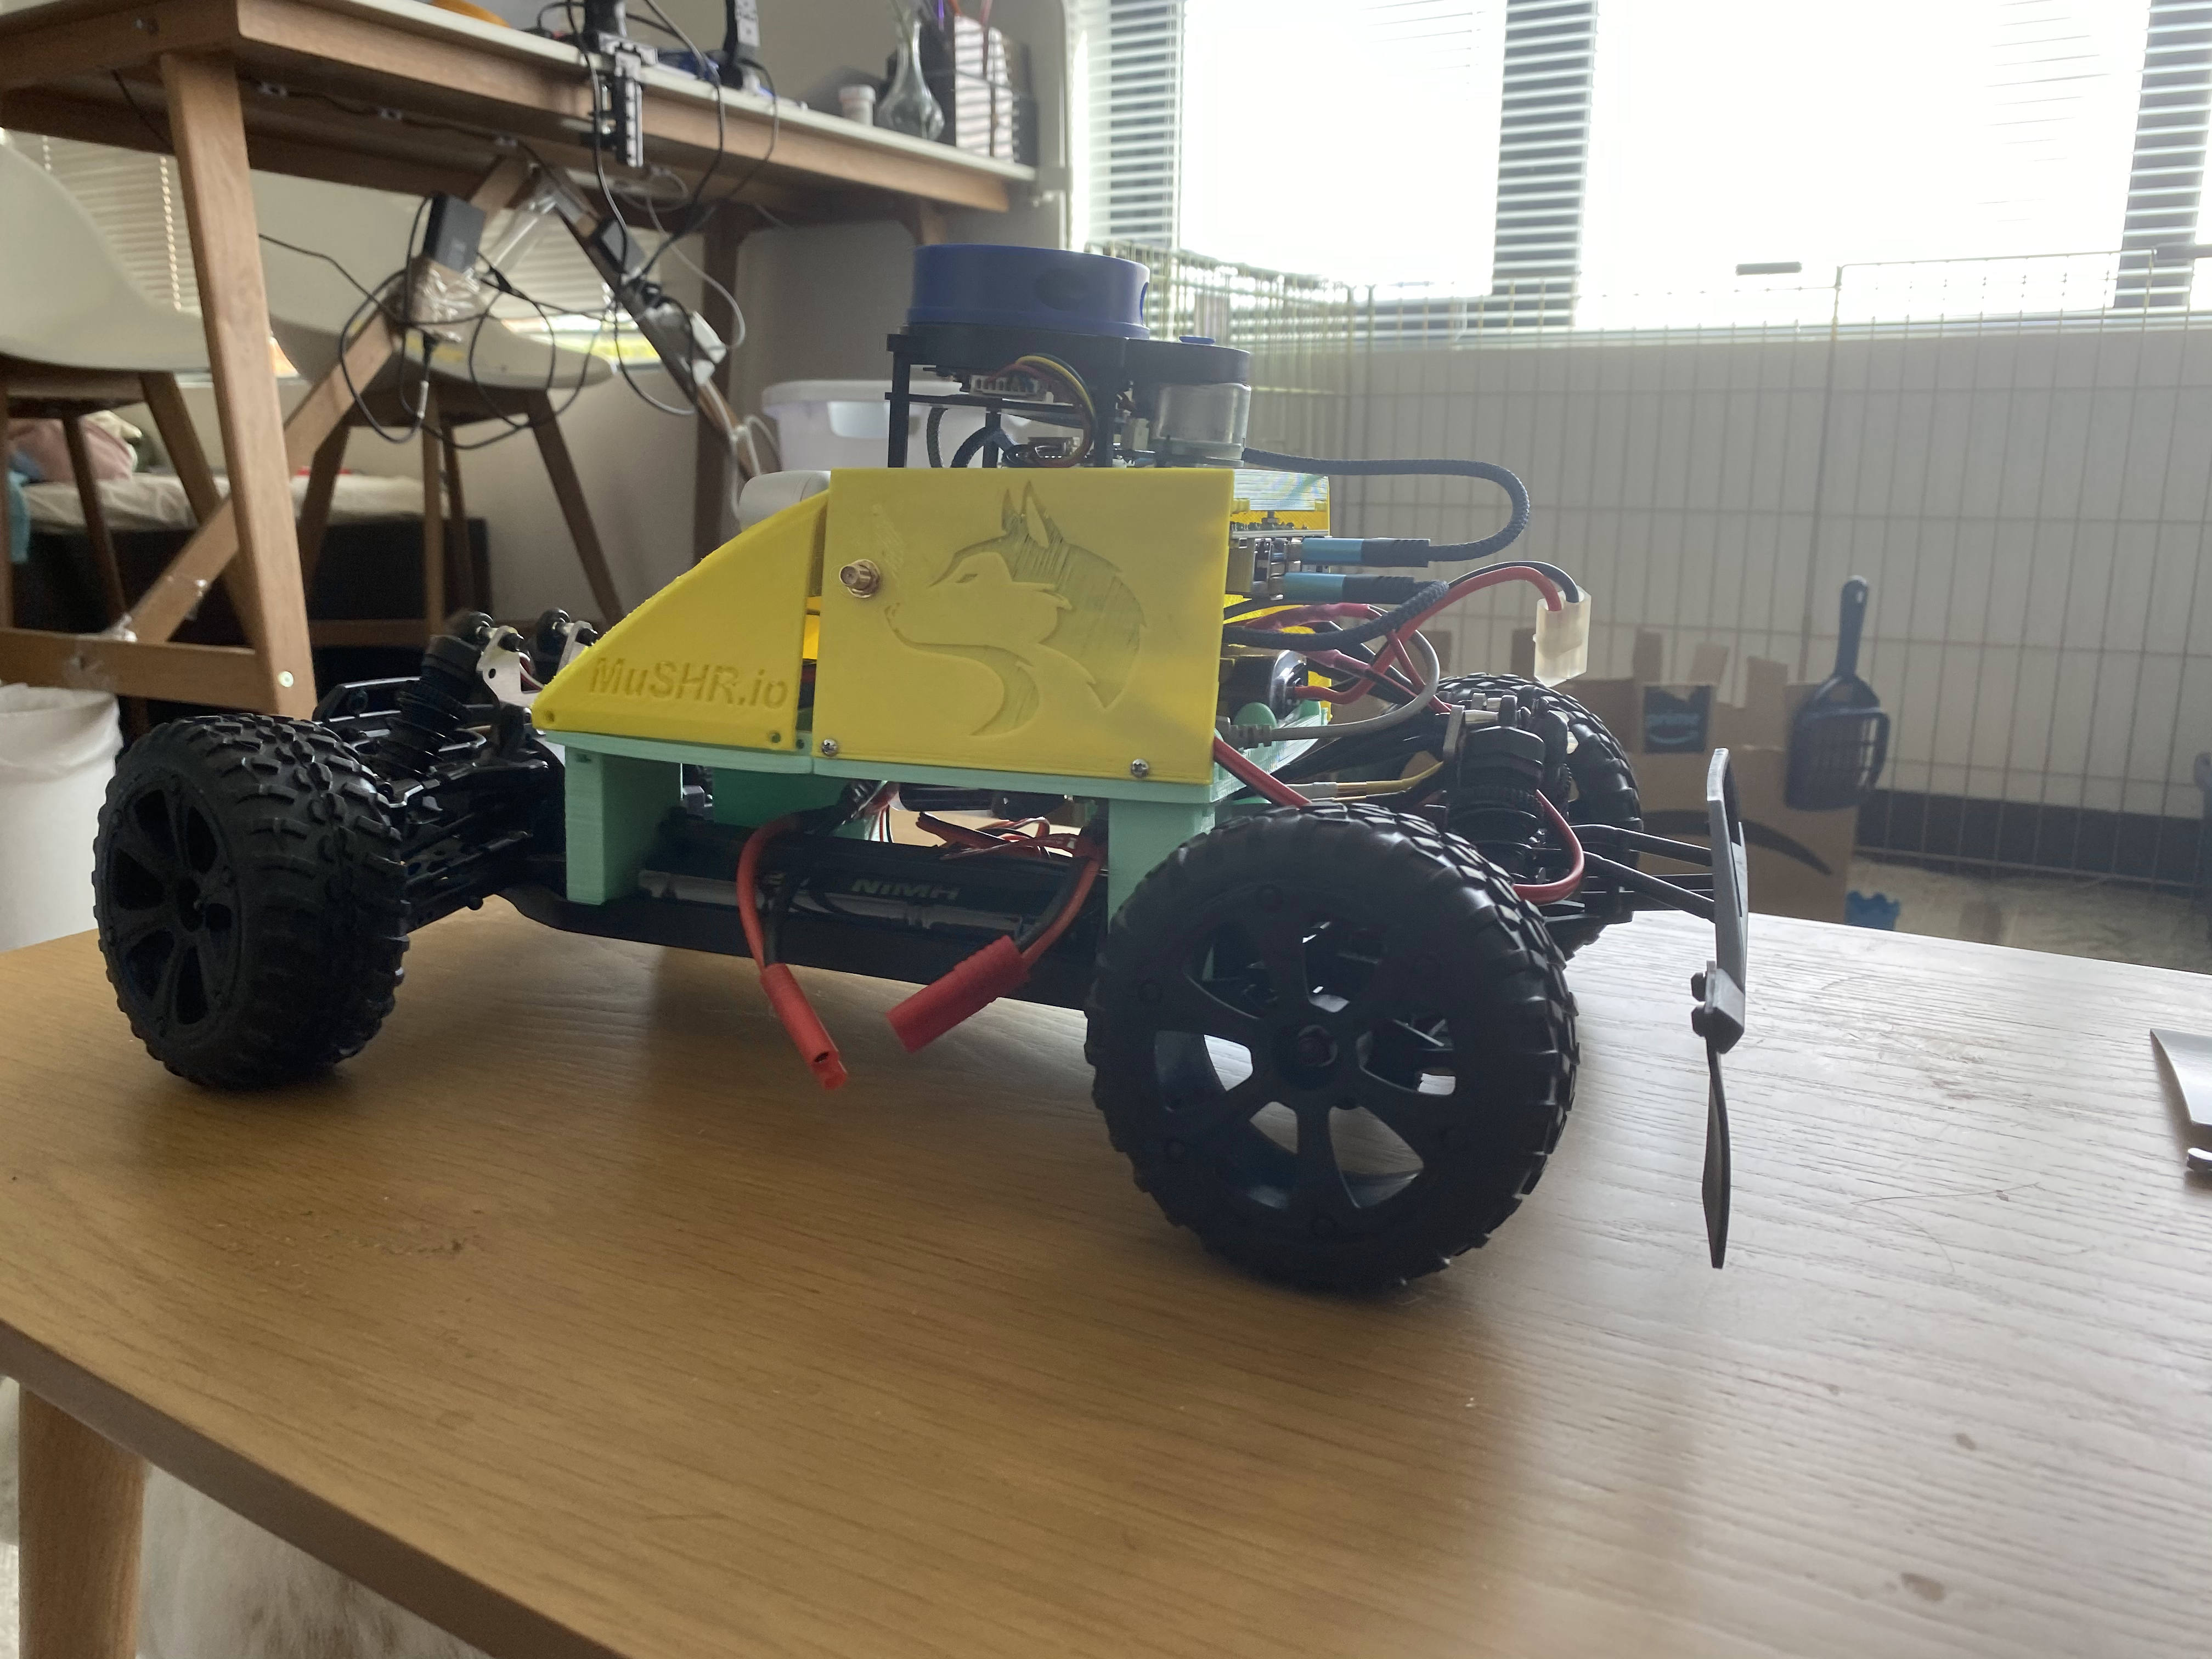mushr_car: (75, 207, 1766, 1321)
